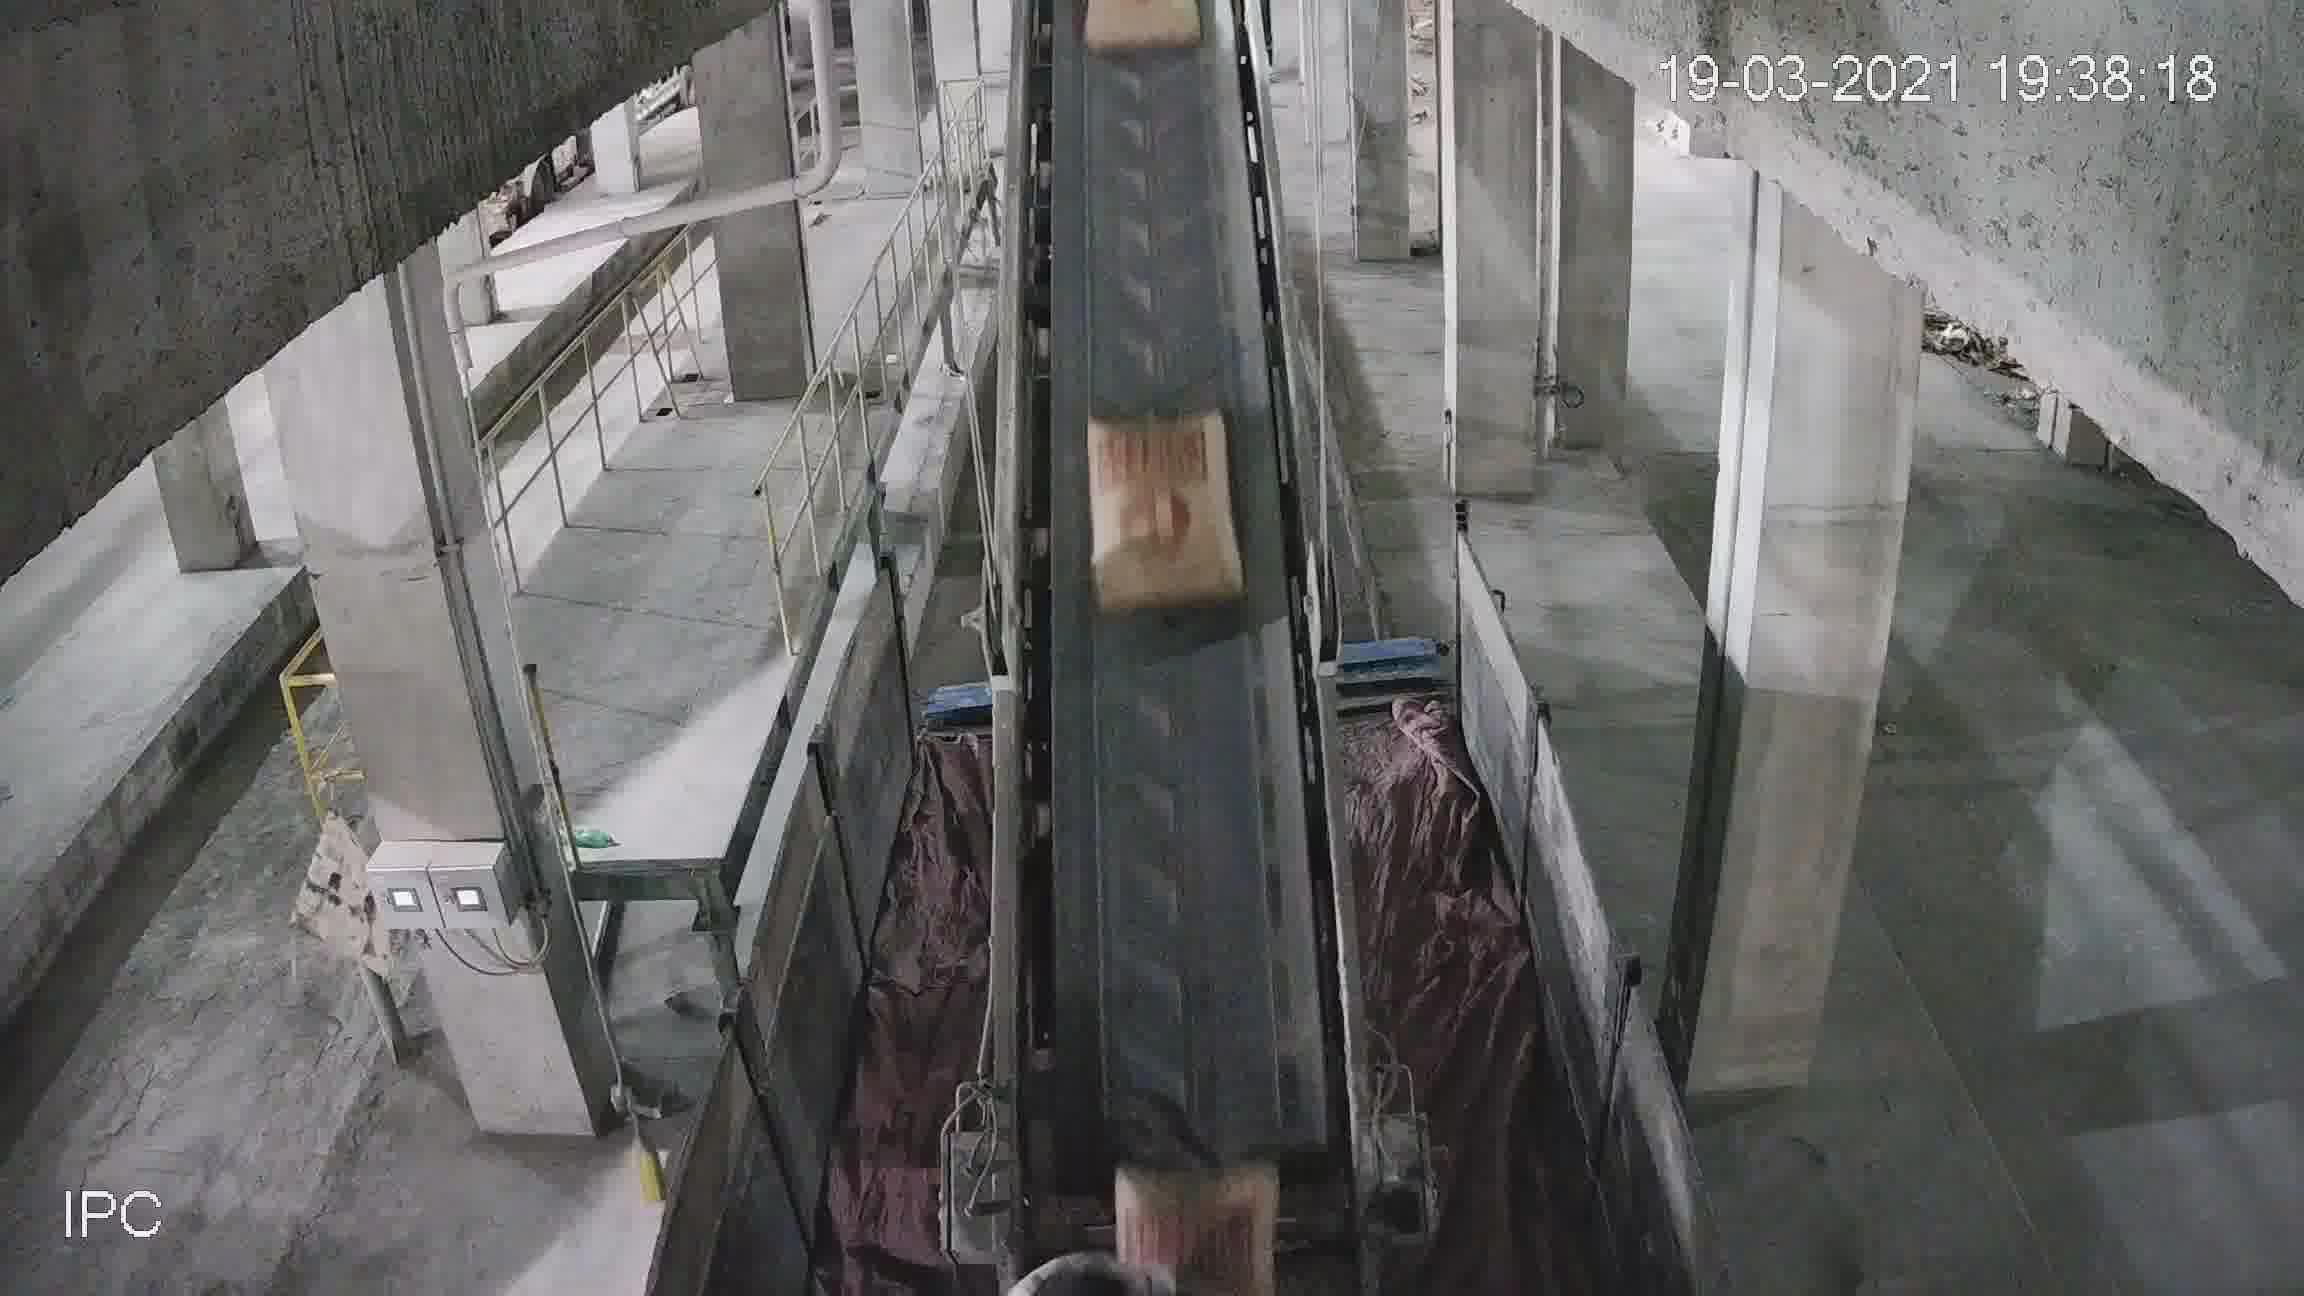bag: (1086, 410, 1237, 609), (1112, 1154, 1272, 1279)
belt: (999, 36, 1367, 1211)
